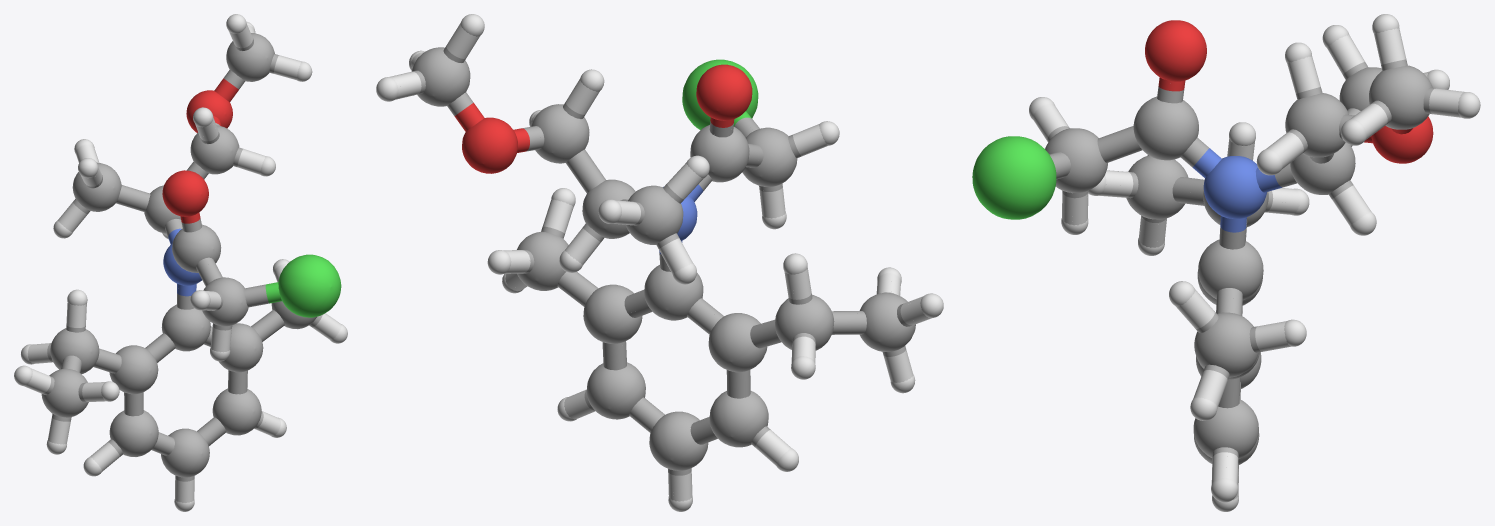
The model's file is Metolachlor_S.fbx.
3 views of the same model, side by side, from view 1: azimuth 30°, elevation 25°; view 2: azimuth 150°, elevation 25°; view 3: azimuth 270°, elevation 25° (orthographic). The views are drawn at different scales.
Visible parts, largest first — view 1: Ball_Carbon_SurfSphere.004, Sticks_Cylinder.011, Sticks_Cylinder.010, Ball_Hydrogen_SurfSphere.005, Ball_Chlorine_SurfSphere.005, Ball_Oxygen_SurfSphere.005, Ball_Nitrogen_SurfSphere.005, Sticks_Cylinder.012; view 2: Ball_Carbon_SurfSphere.004, Sticks_Cylinder.010, Sticks_Cylinder.011, Ball_Hydrogen_SurfSphere.005, Ball_Oxygen_SurfSphere.005, Ball_Chlorine_SurfSphere.005, Sticks_Cylinder.012; view 3: Ball_Carbon_SurfSphere.004, Sticks_Cylinder.010, Sticks_Cylinder.011, Ball_Hydrogen_SurfSphere.005, Ball_Chlorine_SurfSphere.005, Ball_Oxygen_SurfSphere.005, Ball_Nitrogen_SurfSphere.005, Sticks_Cylinder.013.
Boxes of the visible parts, x1=… form: Ball_Carbon_SurfSphere.004: x1=41, y1=33, x2=316, y2=477; Sticks_Cylinder.011: x1=42, y1=38, x2=322, y2=481; Sticks_Cylinder.010: x1=23, y1=24, x2=341, y2=502; Ball_Hydrogen_SurfSphere.005: x1=14, y1=14, x2=347, y2=511; Ball_Chlorine_SurfSphere.005: x1=278, y1=254, x2=341, y2=317; Ball_Oxygen_SurfSphere.005: x1=162, y1=90, x2=232, y2=216; Ball_Nitrogen_SurfSphere.005: x1=163, y1=243, x2=201, y2=285; Sticks_Cylinder.012: x1=180, y1=78, x2=238, y2=223; Ball_Carbon_SurfSphere.004: x1=412, y1=47, x2=915, y2=470; Sticks_Cylinder.010: x1=390, y1=23, x2=931, y2=501; Sticks_Cylinder.011: x1=412, y1=45, x2=912, y2=475; Ball_Hydrogen_SurfSphere.005: x1=376, y1=14, x2=943, y2=511; Ball_Oxygen_SurfSphere.005: x1=462, y1=64, x2=752, y2=173; Ball_Chlorine_SurfSphere.005: x1=682, y1=59, x2=758, y2=129; Sticks_Cylinder.012: x1=454, y1=102, x2=734, y2=152; Ball_Carbon_SurfSphere.004: x1=1045, y1=65, x2=1432, y2=464; Sticks_Cylinder.010: x1=1033, y1=28, x2=1463, y2=500; Sticks_Cylinder.011: x1=1047, y1=59, x2=1435, y2=468; Ball_Hydrogen_SurfSphere.005: x1=1029, y1=14, x2=1480, y2=511; Ball_Chlorine_SurfSphere.005: x1=972, y1=136, x2=1056, y2=219; Ball_Oxygen_SurfSphere.005: x1=1145, y1=20, x2=1433, y2=163; Ball_Nitrogen_SurfSphere.005: x1=1203, y1=156, x2=1266, y2=218; Sticks_Cylinder.013: x1=1192, y1=148, x2=1281, y2=232.
Bounding box in the file's own units: 865 × 958 × 776.
